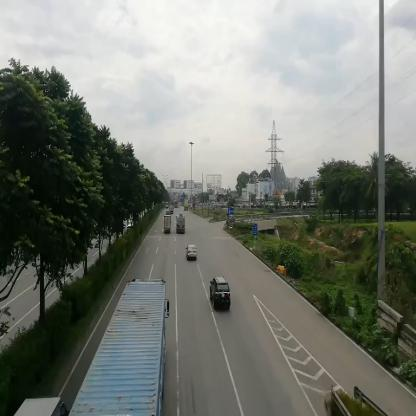car: (211, 275, 230, 312), (187, 246, 199, 265)
container: (83, 279, 170, 416)
truck: (164, 216, 174, 236), (177, 215, 185, 238)
